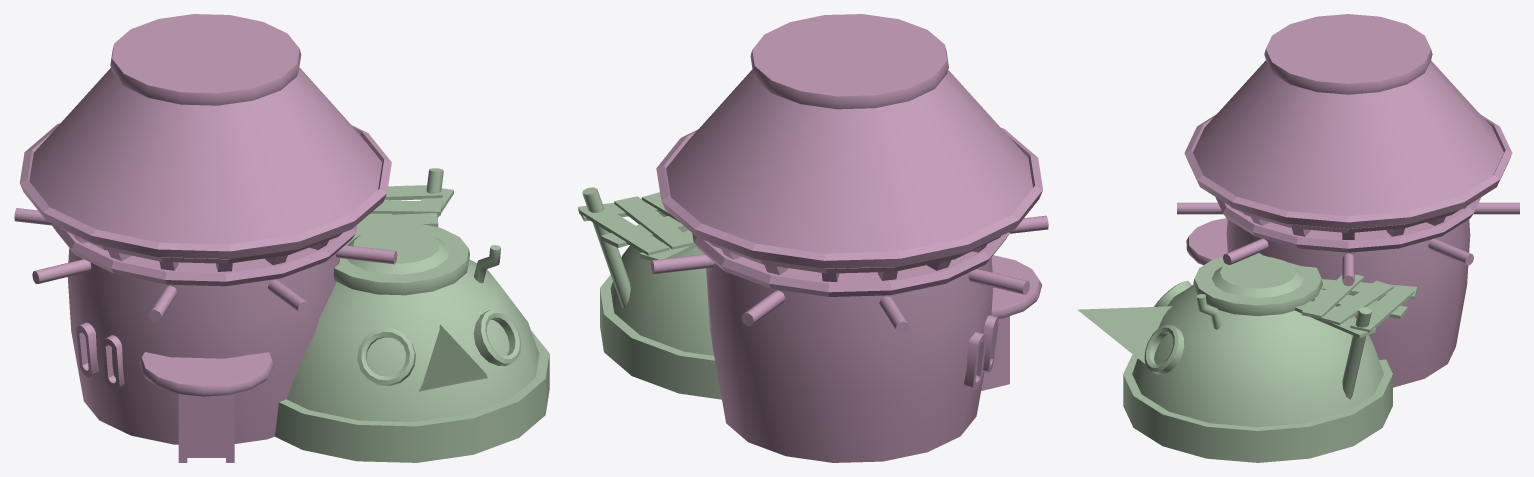
File: House3.fbx
The picture shows the model from 3 angles, left to right: view 1: azimuth 30°, elevation 25°; view 2: azimuth 150°, elevation 25°; view 3: azimuth 270°, elevation 25°; orthographic projection. The views are drawn at different scales.
Visible parts, largest first — view 1: Perchoirs010, Object041; view 2: Perchoirs010, Object041; view 3: Perchoirs010, Object041.
Boxes of the visible parts, left/top/right/bottom form: Perchoirs010: left=14, top=14, right=397, bottom=462; Object041: left=275, top=168, right=549, bottom=462; Perchoirs010: left=650, top=14, right=1048, bottom=462; Object041: left=578, top=187, right=721, bottom=399; Perchoirs010: left=1177, top=14, right=1519, bottom=387; Object041: left=1077, top=253, right=1416, bottom=462.
Size of the model in its own units: 10.04 by 9.96 by 7.39.
